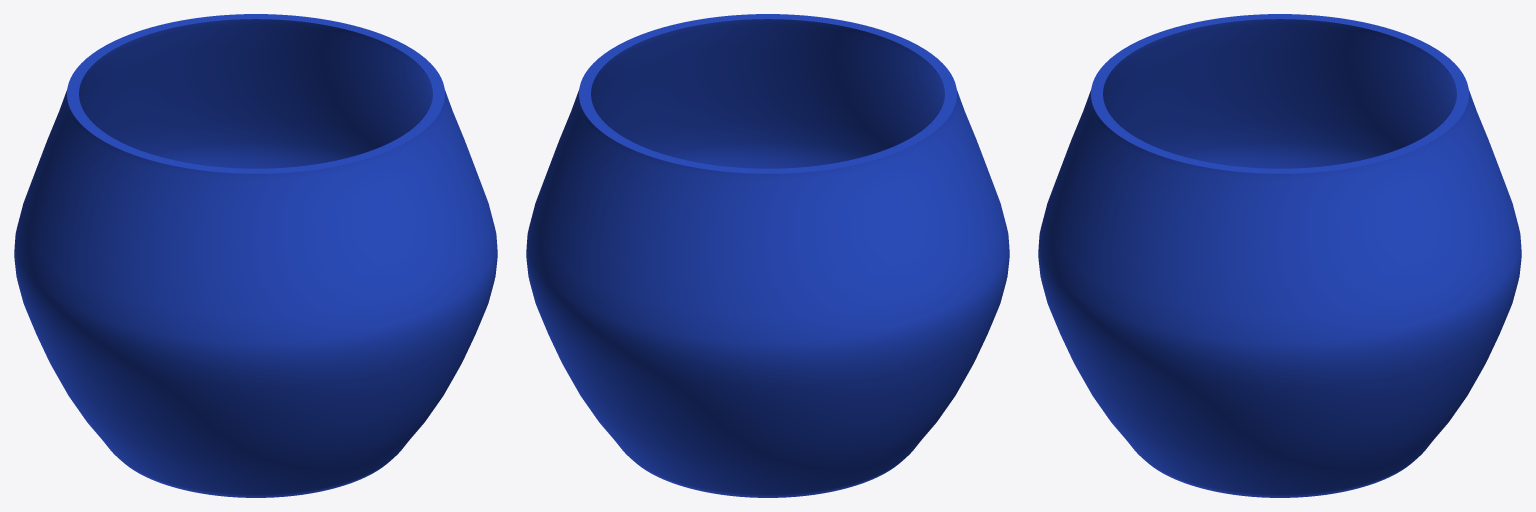
The model's file is studio-loop-cobalt.glb.
3 views of the same model, side by side, from view 1: azimuth 30°, elevation 25°; view 2: azimuth 150°, elevation 25°; view 3: azimuth 270°, elevation 25° (orthographic).
Visible parts, largest first — view 1: Loop open rounded pot; view 2: Loop open rounded pot; view 3: Loop open rounded pot.
Boxes of the visible parts, box(x1,y1,x2,y2) form: Loop open rounded pot: box(14, 14, 497, 497); Loop open rounded pot: box(526, 14, 1009, 497); Loop open rounded pot: box(1038, 14, 1521, 497).
Bounding box in the file's own units: 0.13 × 0.102 × 0.13.
